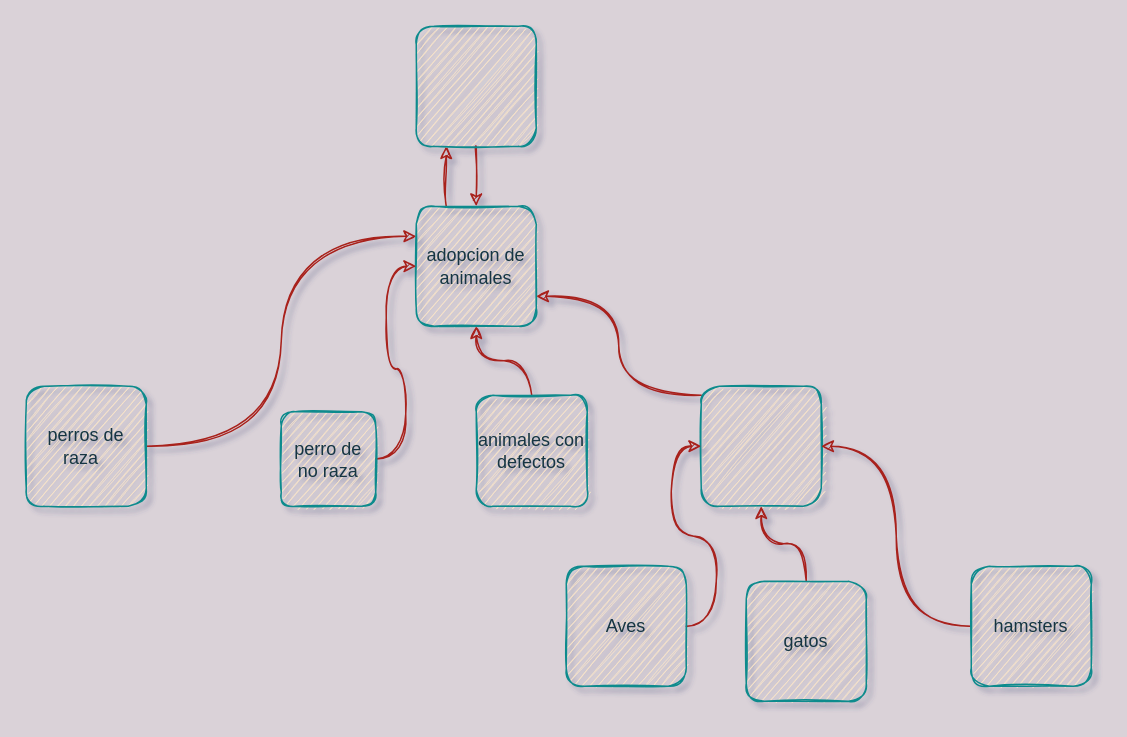
Some shapes in this 1127 by 737 pixel diagram are drawn without their labels. Each missing label, with the centre of its shape:
"cliente" belongs at (475,85).
"otro tipo de animales" belongs at (760,445).
